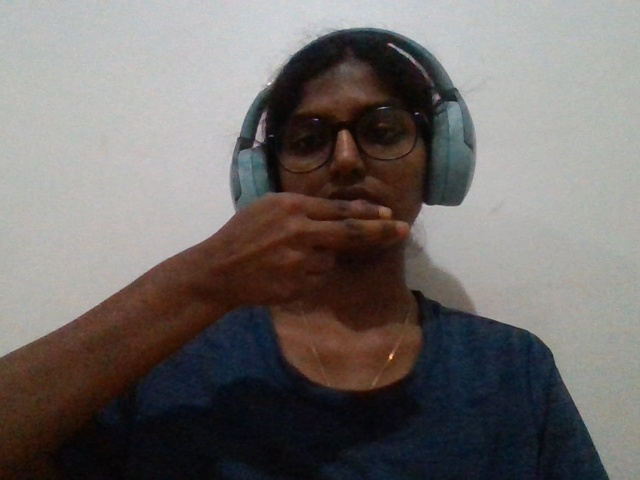H: (186, 184, 438, 349)
